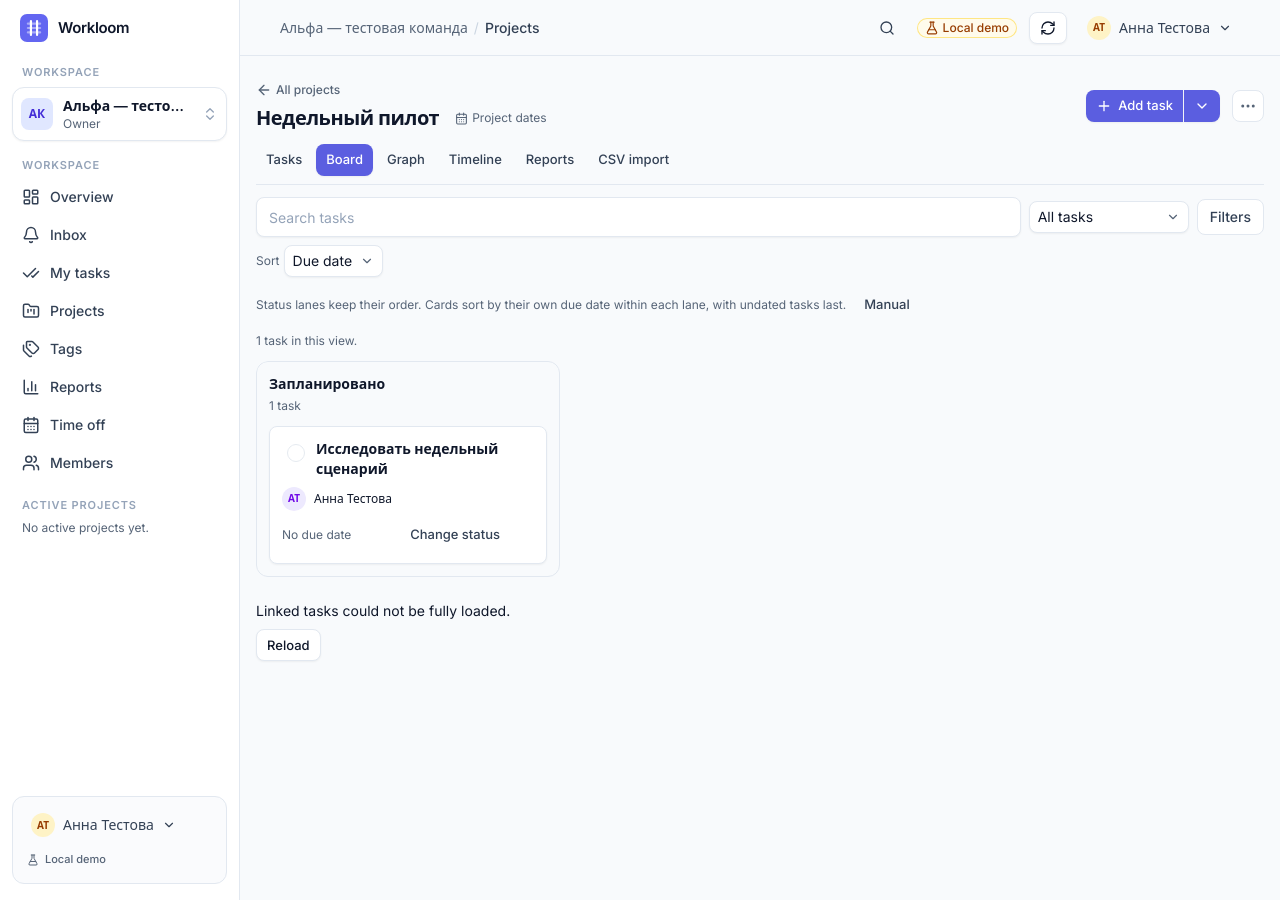
Test case: keeps Board due guidance visible with no Table disclosure and removes it in Manual
The width and height of the screenshot is (1280, 900).
Check: the text "Status lanes keep their order. Cards sort by their own due date within each lane, with undated tasks last." is shown, box left=256, top=297, right=846, bottom=312
Click the dropdown named "Sort". click: (333, 261)
box: left=284, top=245, right=383, bottom=277
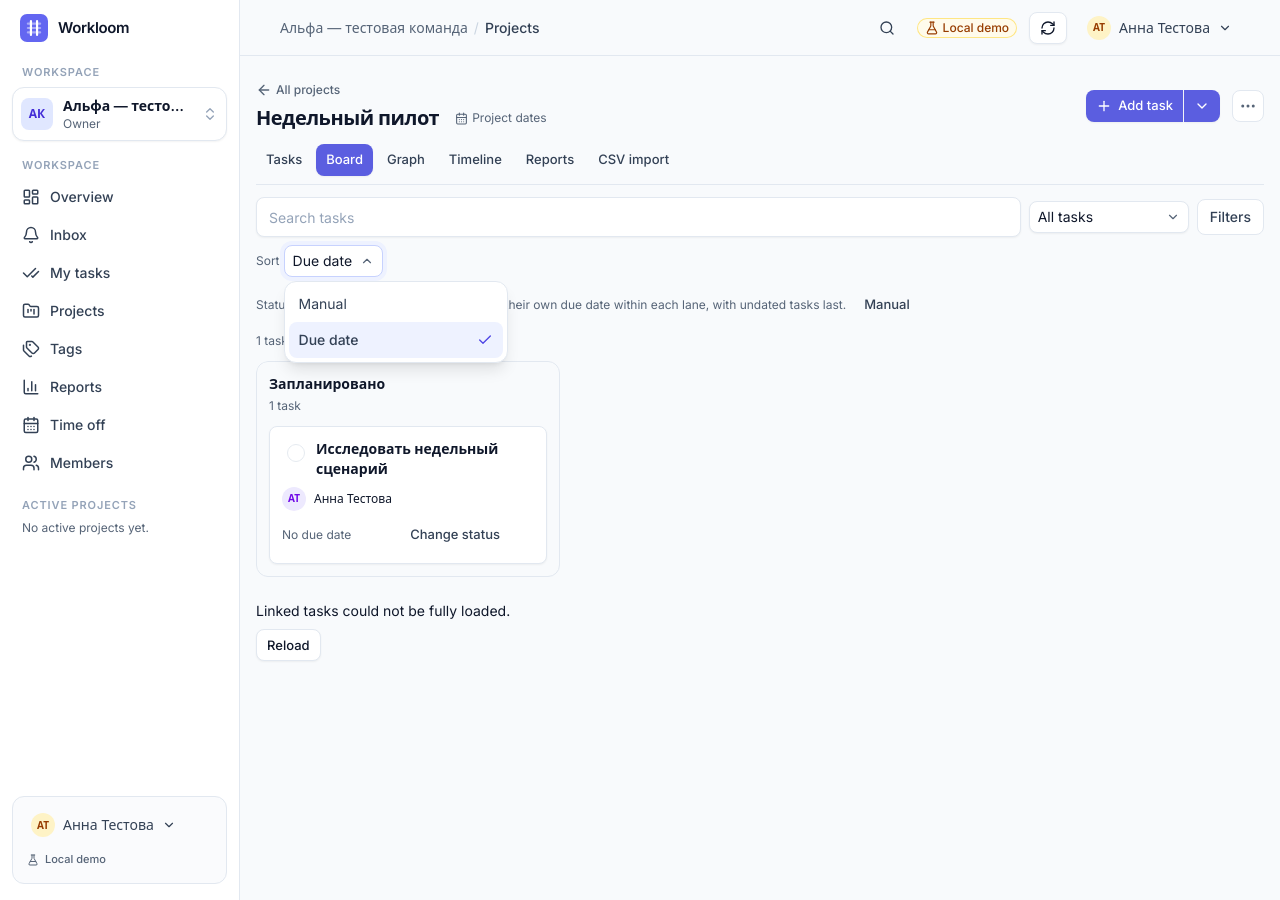
Click the option "Manual". click: (323, 304)
box: left=298, top=295, right=347, bottom=312
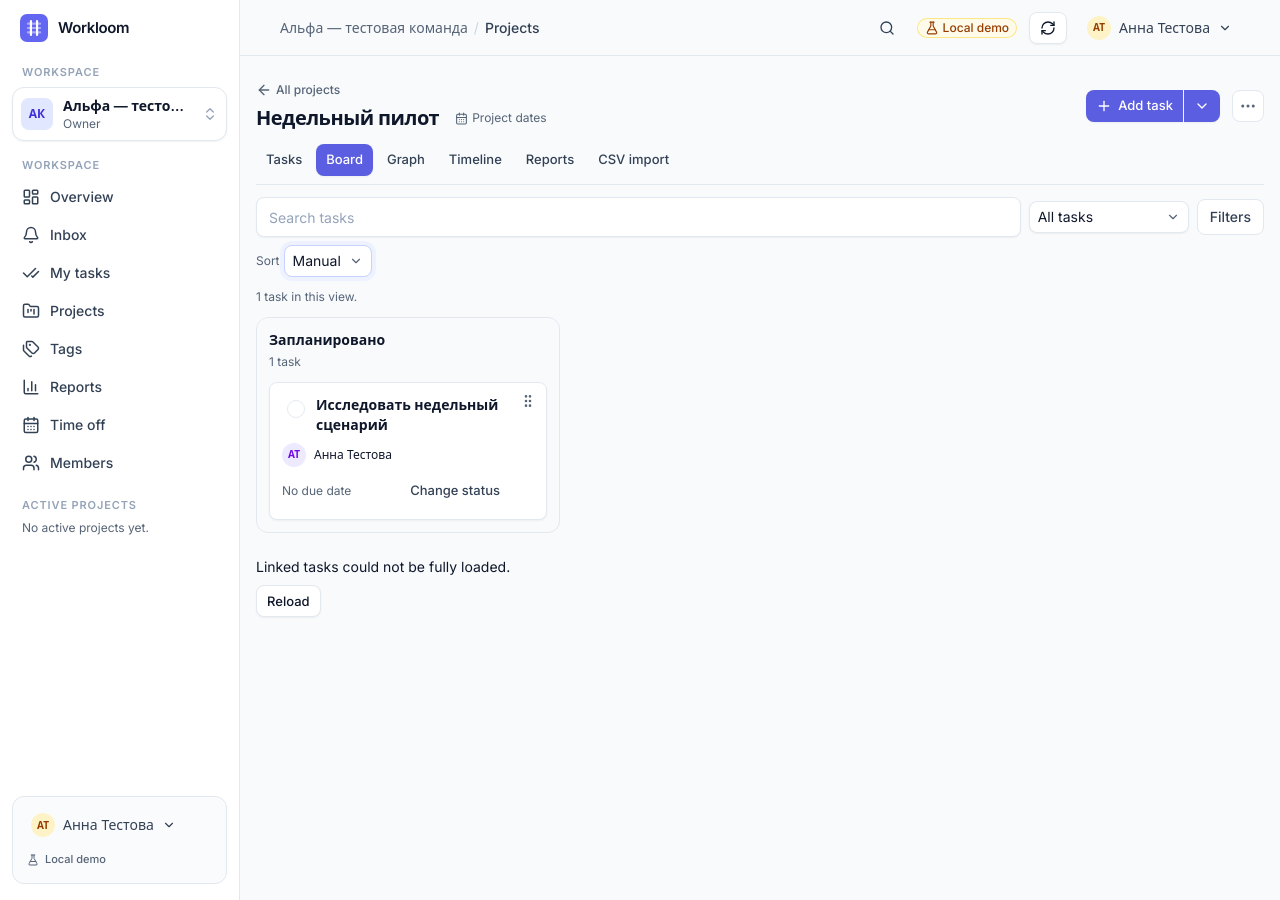
Check: the text "Status lanes keep their order. Cards sort by their own due date within each lane, with undated tasks last." is gone
